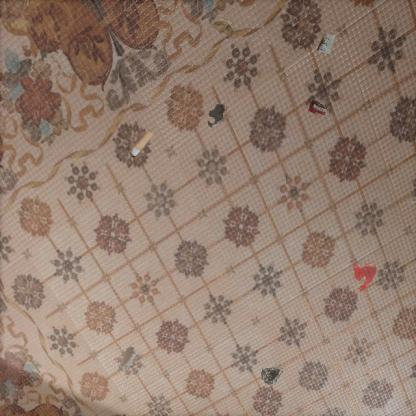dirty: (127, 128, 156, 158), (209, 14, 236, 39), (119, 344, 138, 372), (259, 364, 283, 386), (306, 98, 330, 119), (316, 31, 336, 54)
liquid: (352, 262, 378, 292), (206, 102, 226, 128)
